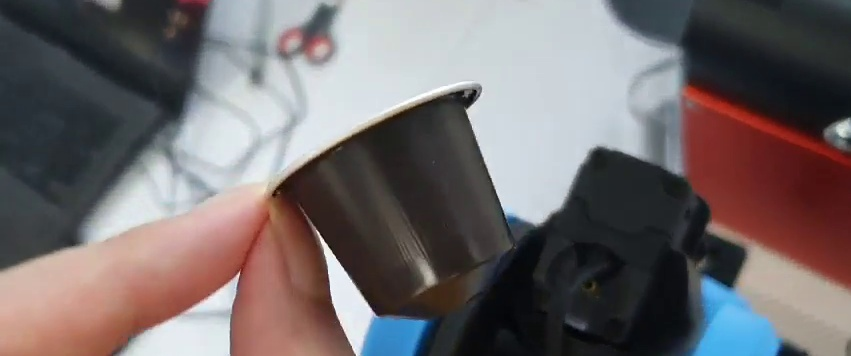capsule_4: (261, 76, 522, 328)
